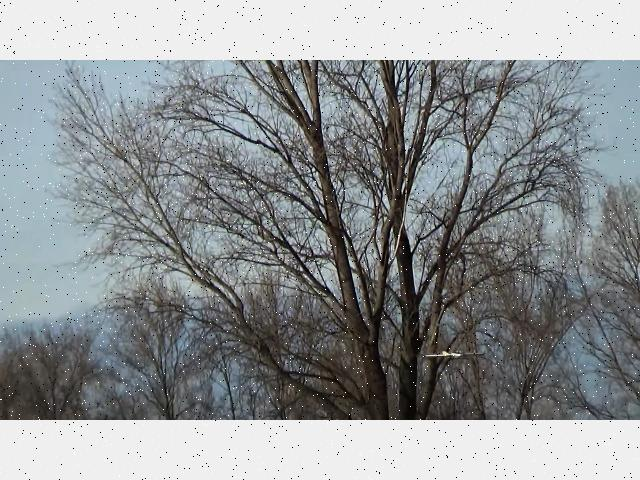Anti-Drone: (424, 350, 486, 356)
